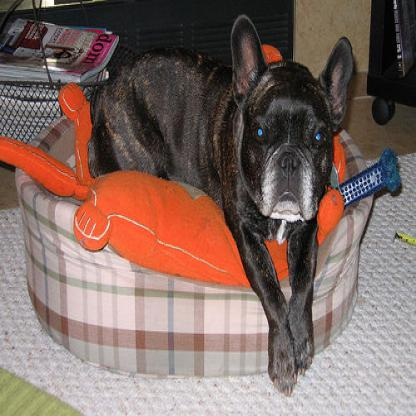dog: (86, 11, 354, 396)
